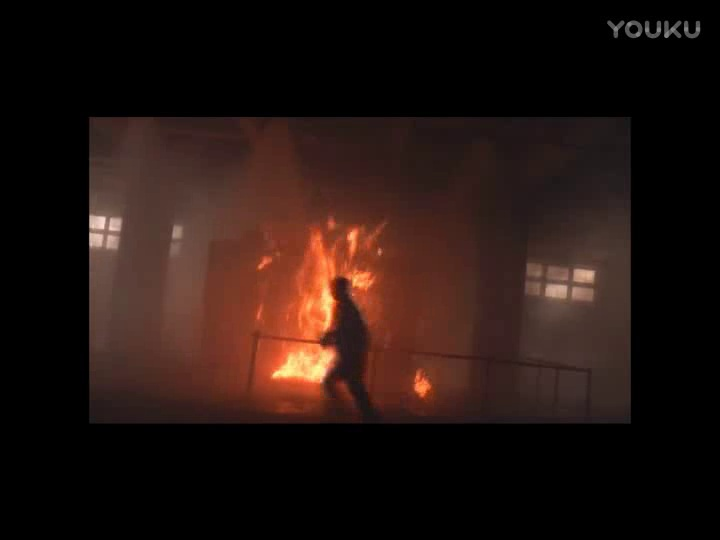fire: (279, 223, 335, 380), (410, 363, 434, 402)
